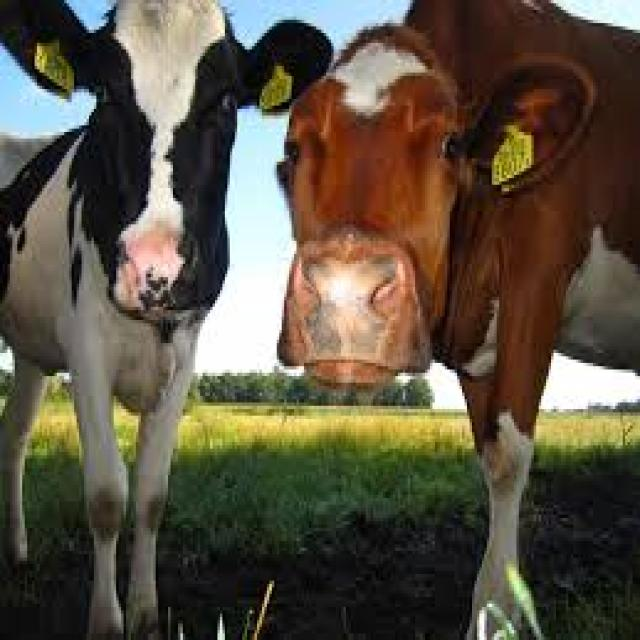cowFace: (264, 16, 590, 439), (20, 13, 254, 353)
